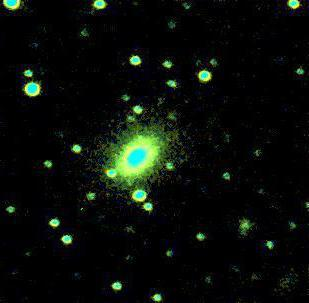star: (102, 141, 132, 171)
